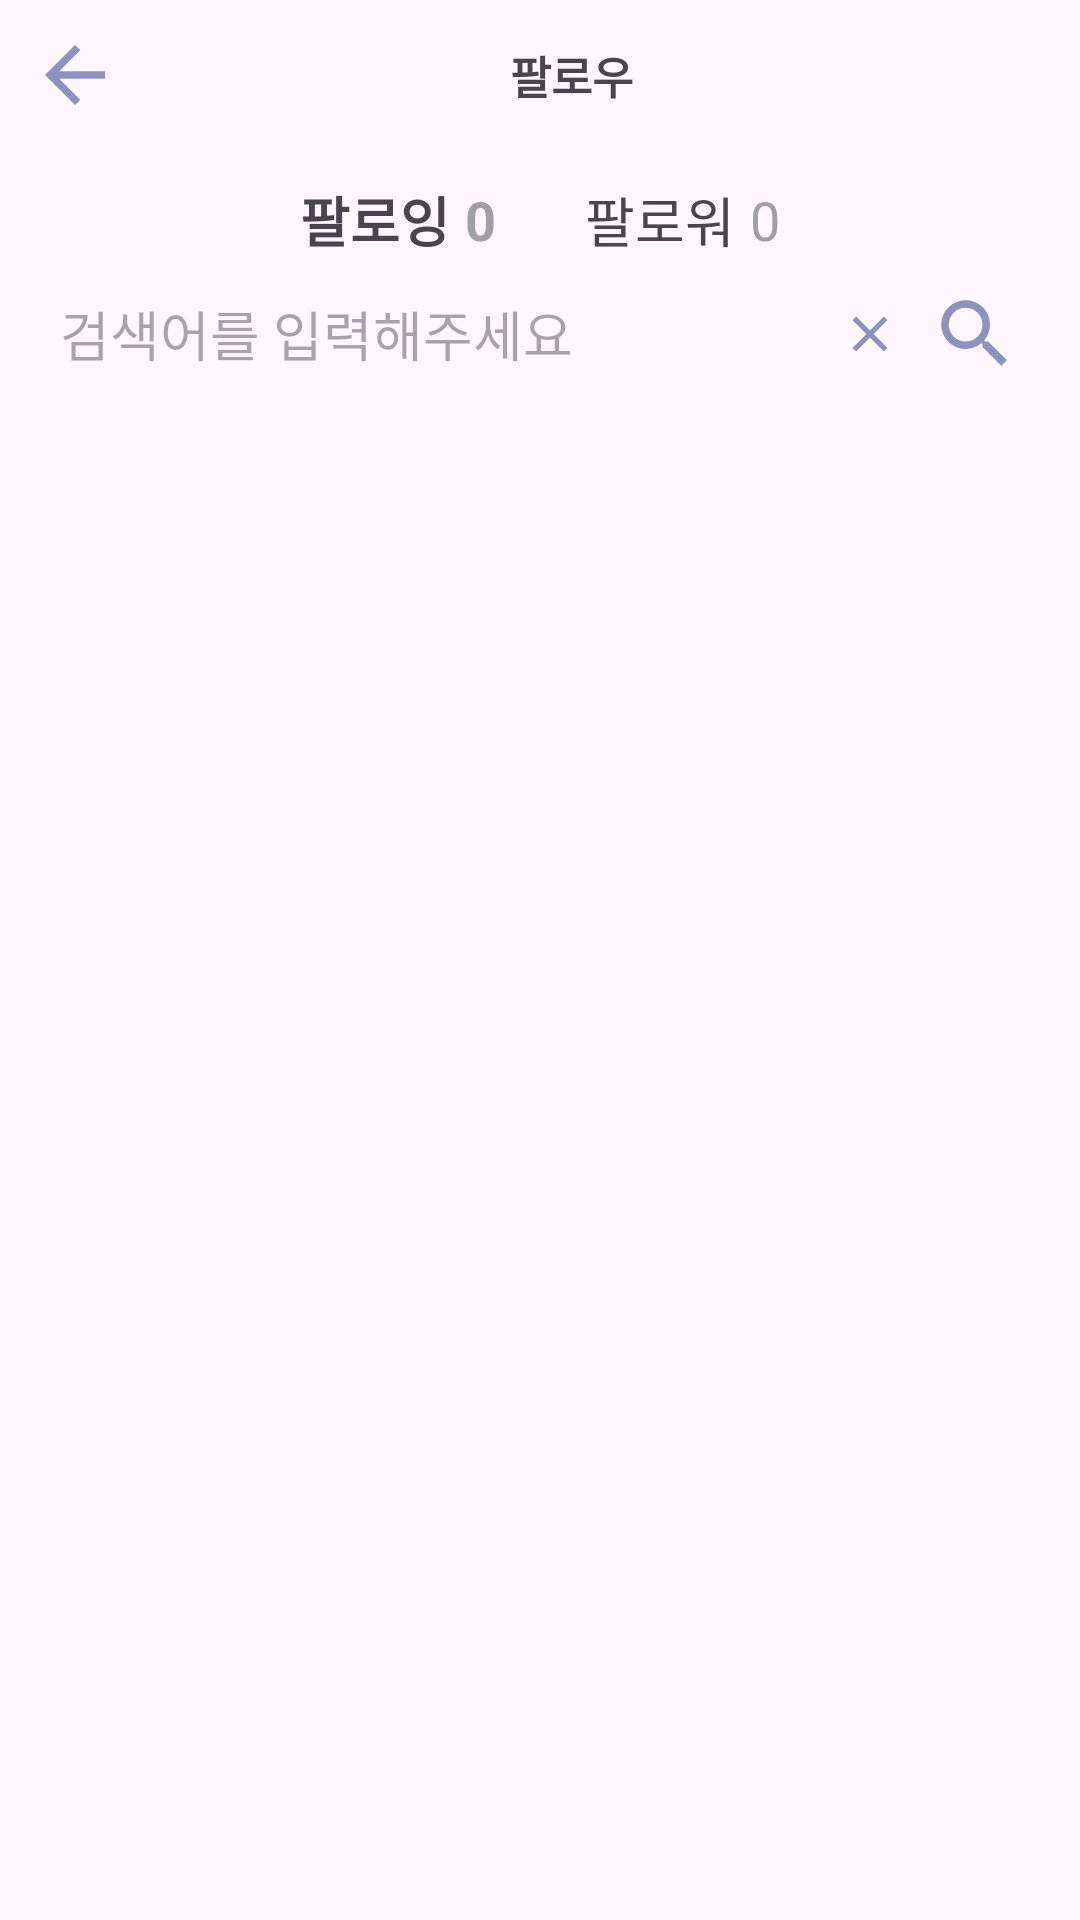

Screen size 1080w x 1920h. Icon name, then its center in pixels as [x,y]:
back: [75,75]
cancel: [870,334]
search: [974,333]
